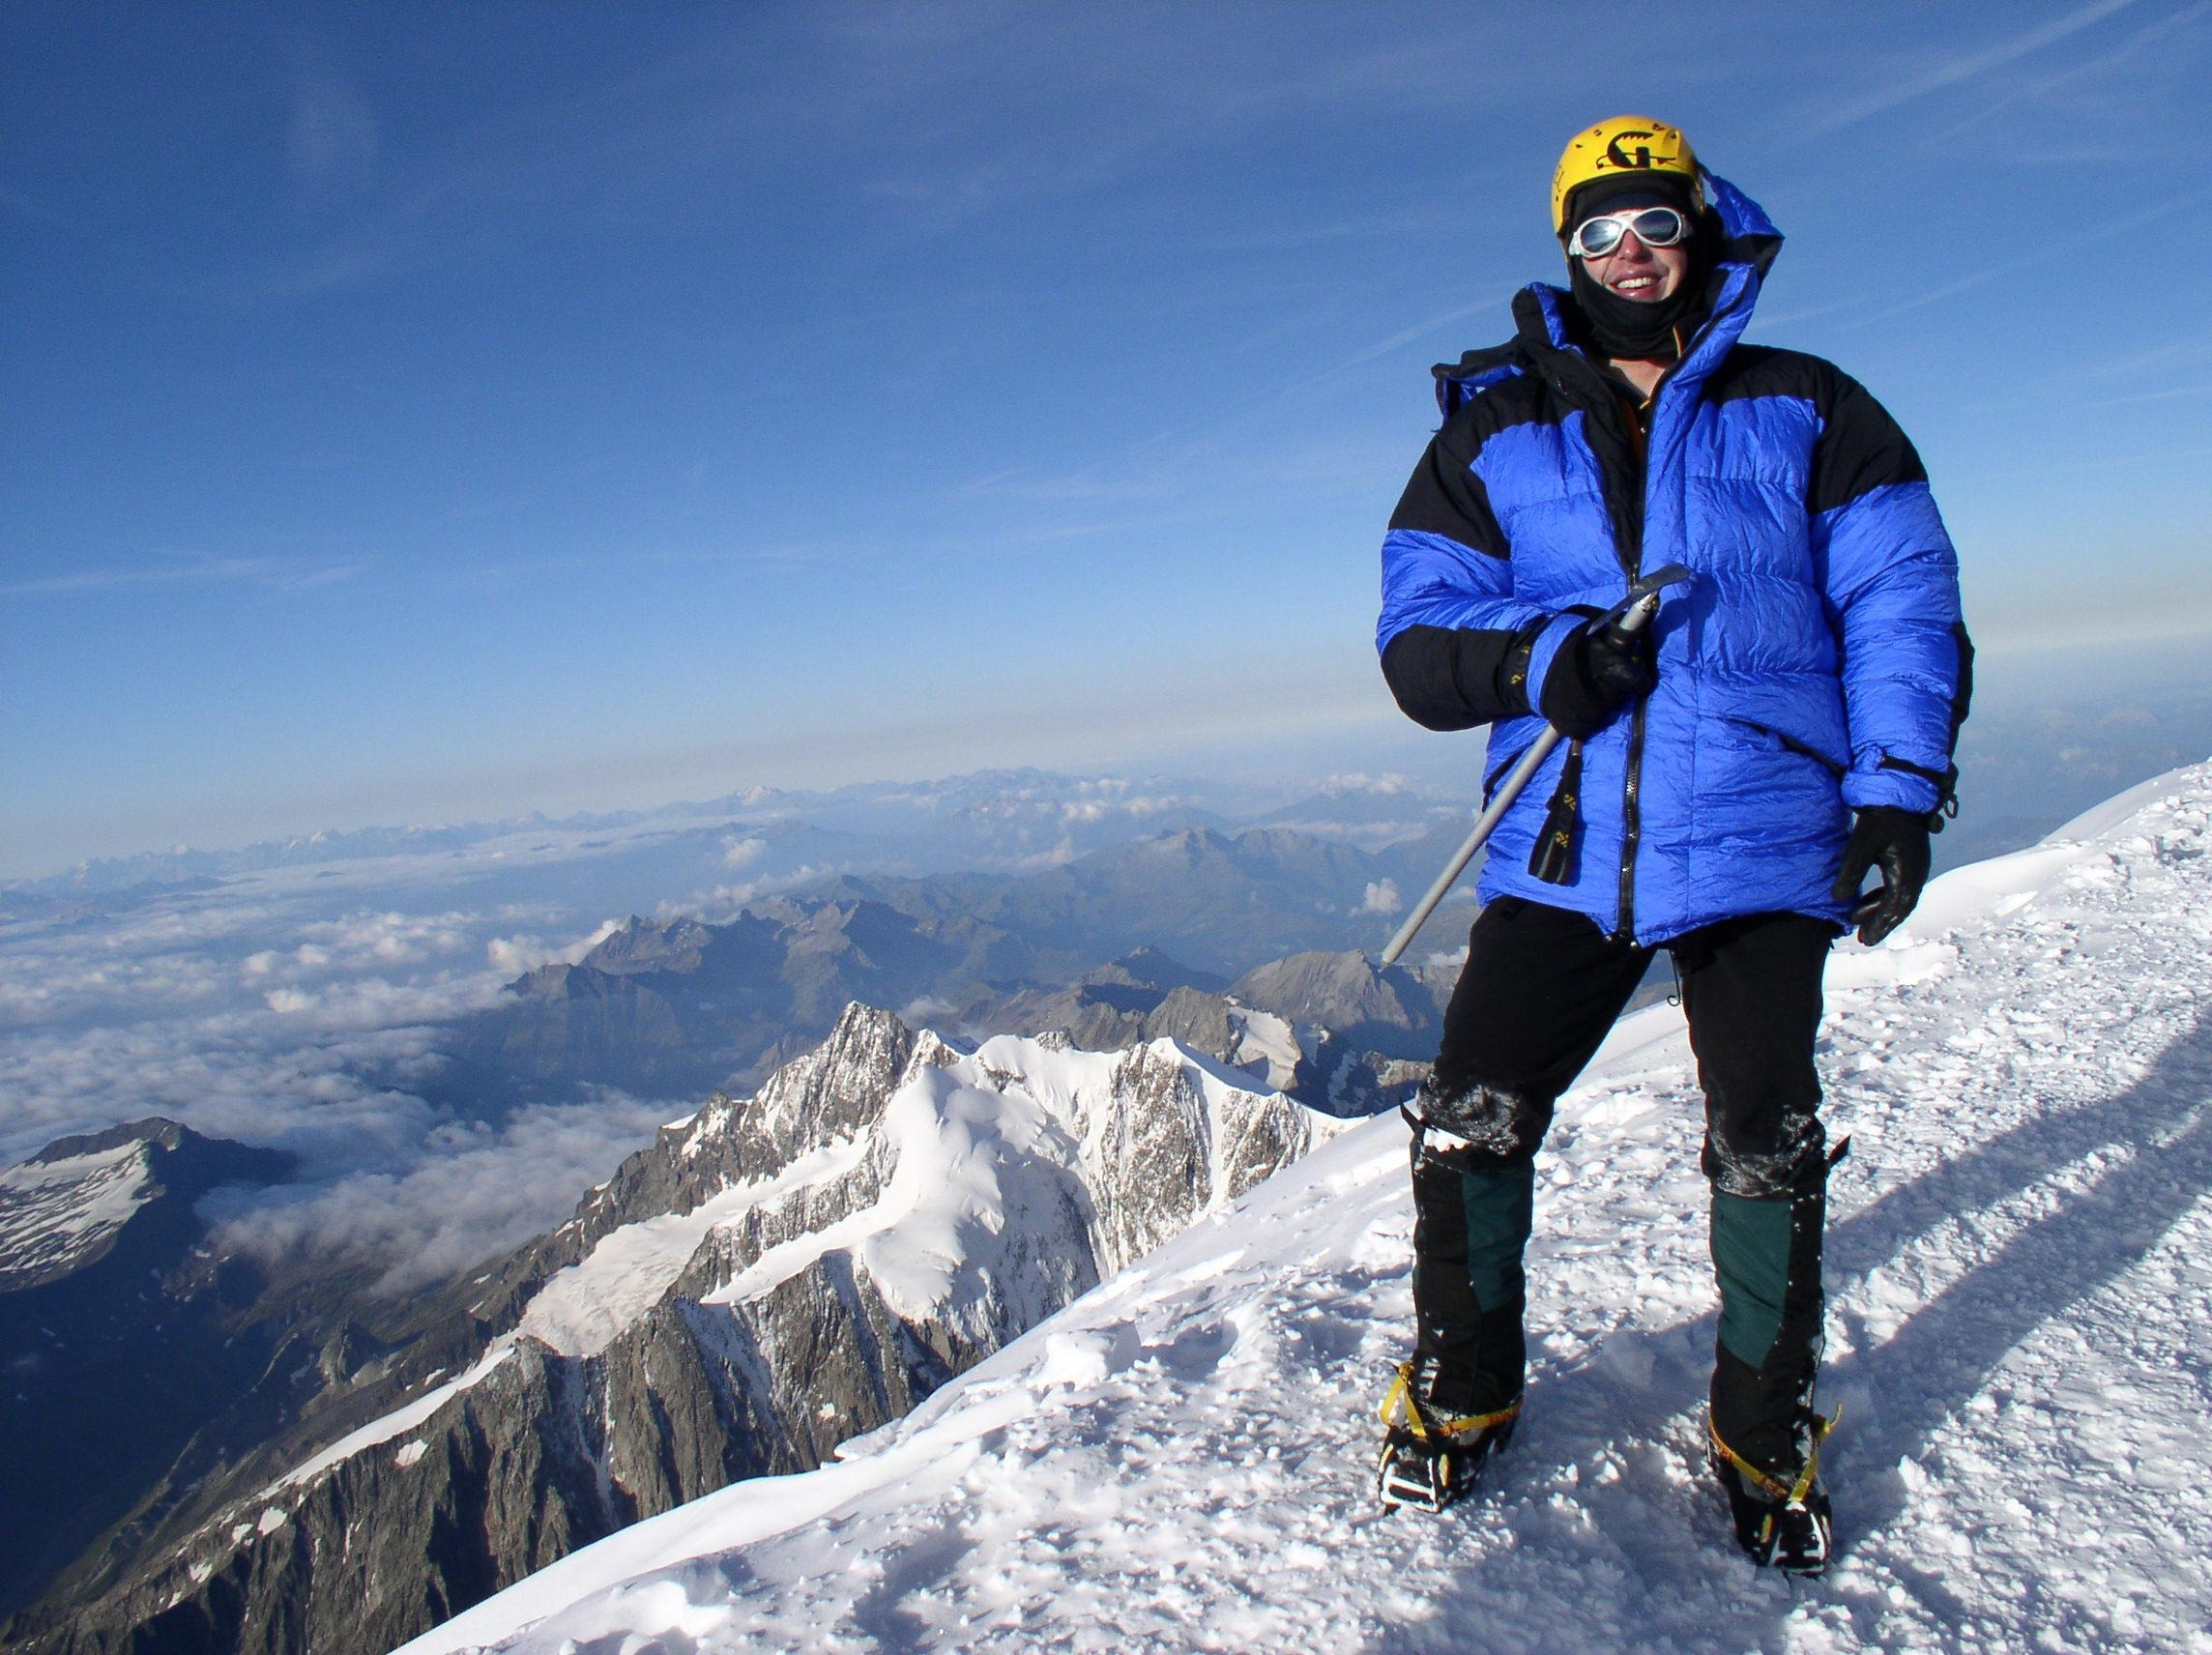helmet: (1541, 108, 1713, 249)
